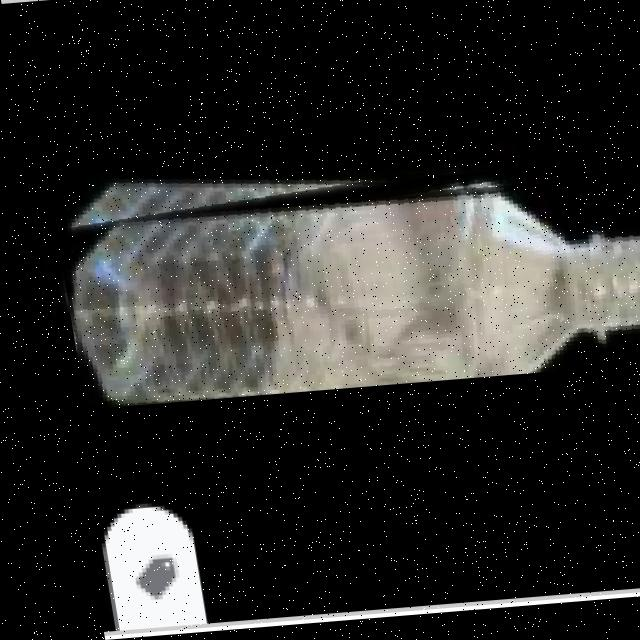plasticbottle: (42, 147, 640, 410)
